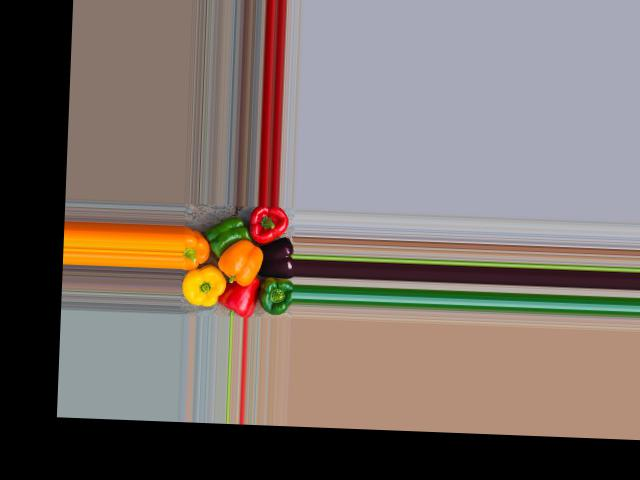bell_pepper: (182, 216, 220, 270)
